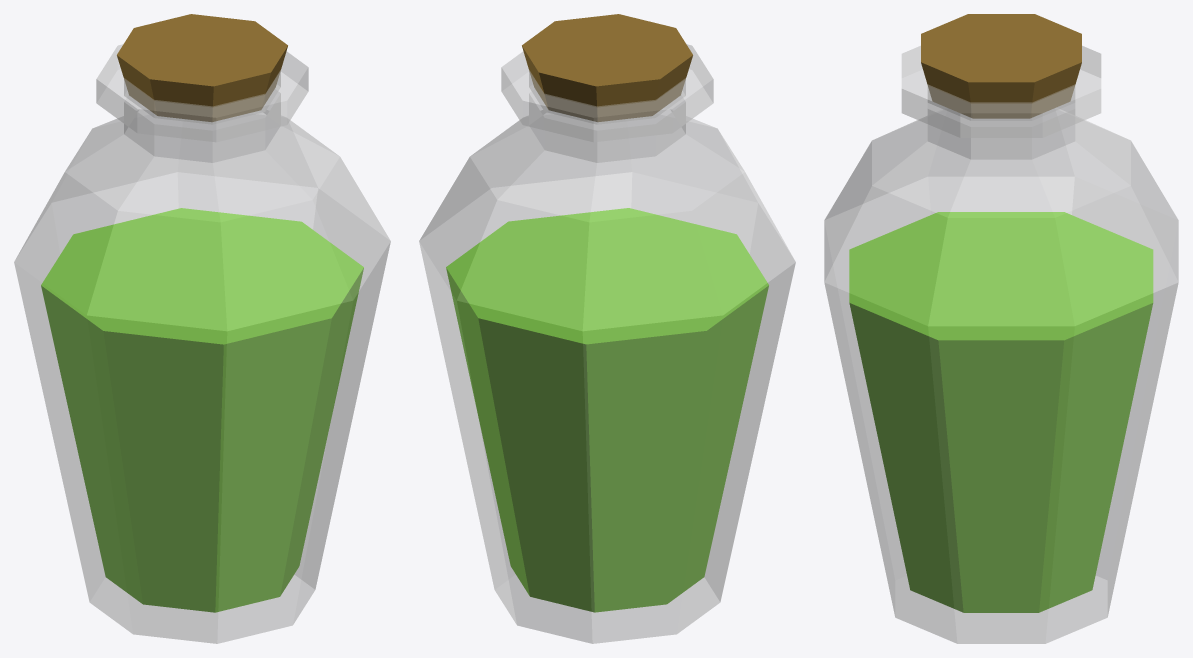
Rendered from Potion_Tall.fbx.
The picture shows the model from 3 angles, left to right: view 1: azimuth 30°, elevation 25°; view 2: azimuth 150°, elevation 25°; view 3: azimuth 270°, elevation 25°; orthographic projection.
Visible parts, largest first — view 1: Potion Bottle, Potion, Cork; view 2: Potion Bottle, Potion, Cork; view 3: Potion Bottle, Potion, Cork.
Part boxes in pixels (bbox=[...]): Potion Bottle: bbox=[14, 44, 390, 643]; Potion: bbox=[41, 208, 363, 612]; Cork: bbox=[117, 14, 287, 121]; Potion Bottle: bbox=[419, 44, 795, 643]; Potion: bbox=[446, 208, 768, 612]; Cork: bbox=[522, 14, 692, 121]; Potion Bottle: bbox=[824, 46, 1178, 643]; Potion: bbox=[849, 212, 1153, 612]; Cork: bbox=[921, 14, 1081, 118].
Size of the model in its own units: 60.26 by 103 by 60.26.
